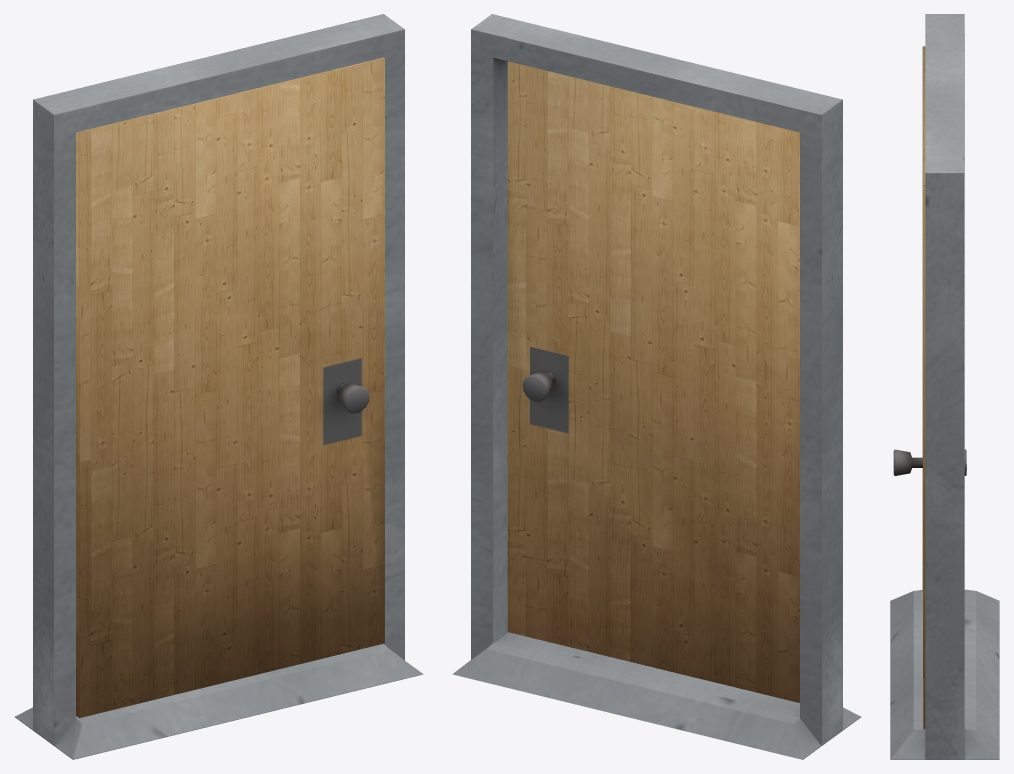
The picture shows the model from 3 angles, left to right: view 1: azimuth 30°, elevation 25°; view 2: azimuth 150°, elevation 25°; view 3: azimuth 270°, elevation 25°; orthographic projection. The views are drawn at different scales.
Visible parts, largest first — view 1: Door, Frame; view 2: Door, Frame; view 3: Frame, Door.
Boxes of the visible parts, x1,y1,x2,y2 form: Door: (76,57,384,717); Frame: (14,14,423,759); Door: (507,61,799,702); Frame: (452,14,861,759); Frame: (890,14,999,759); Door: (893,46,966,728).
Bounding box in the file's own units: 1.79 × 3.08 × 0.5216.
Materials: 2 (2 with a texture image).
